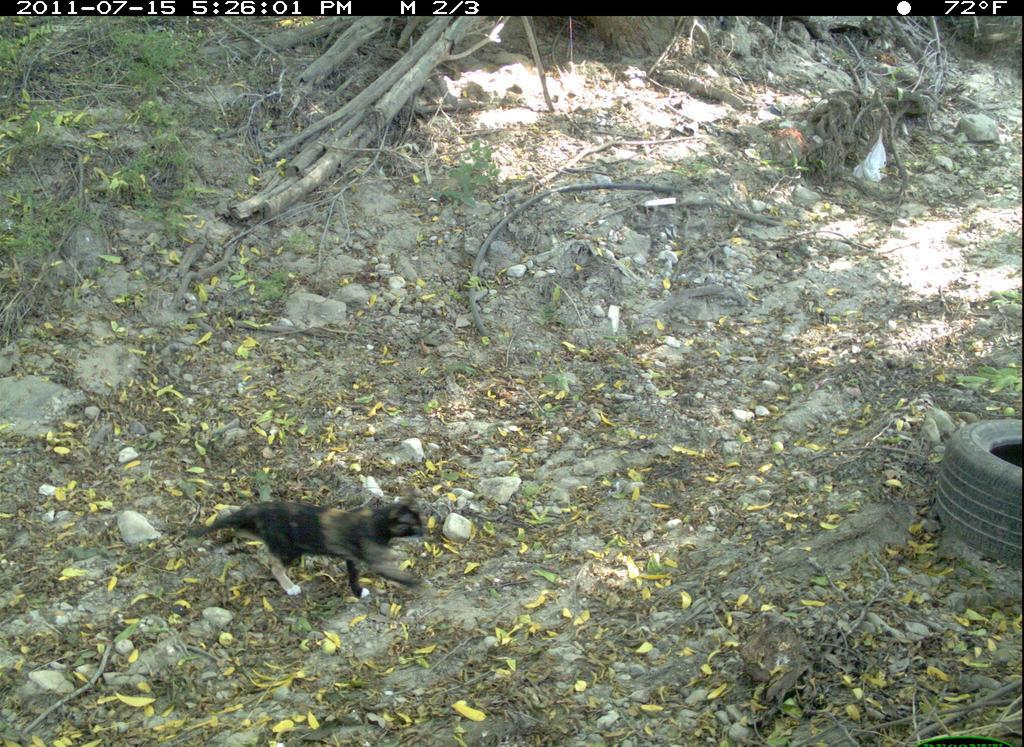cat: (194, 487, 442, 600)
